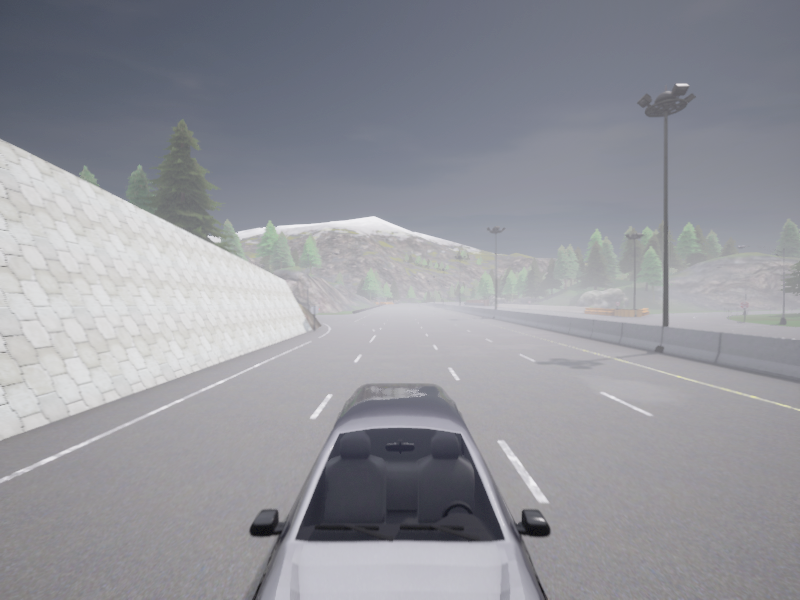vehicle: (249, 383, 550, 599)
